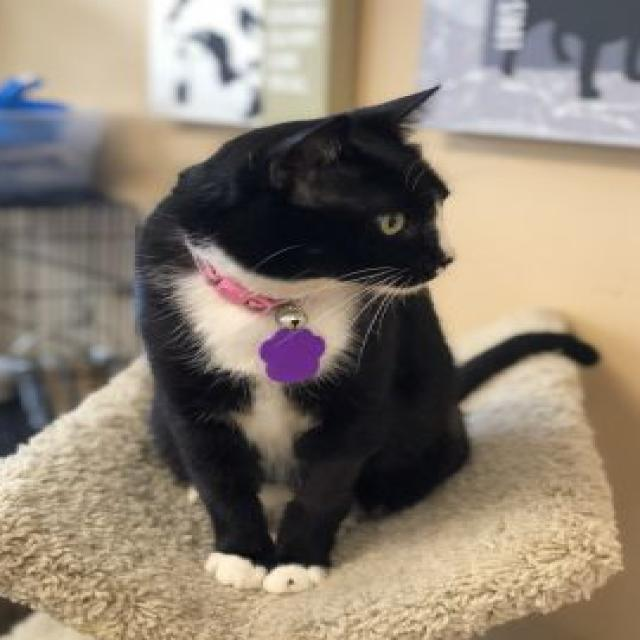Tuxedo: (128, 79, 607, 600)
